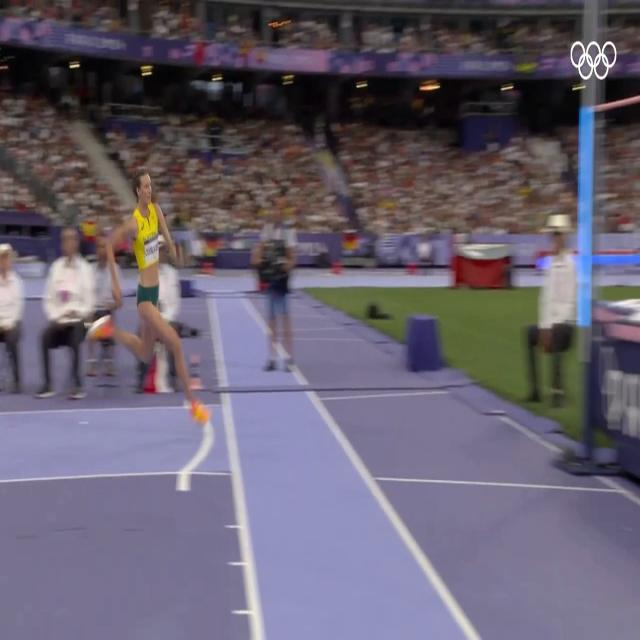run: (94, 169, 212, 421)
